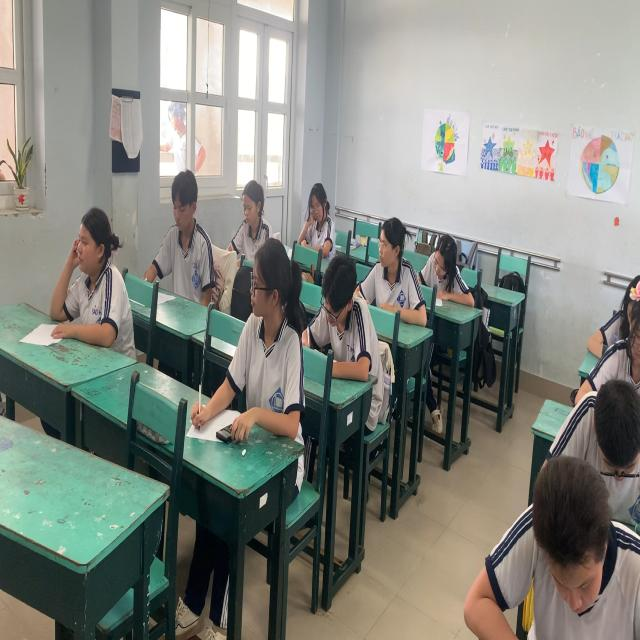cheating: (239, 223, 310, 430), (368, 206, 416, 320)
not_cheating: (66, 202, 136, 346), (316, 233, 372, 381), (163, 171, 213, 291), (299, 182, 336, 250), (235, 178, 268, 240), (431, 236, 462, 291)
